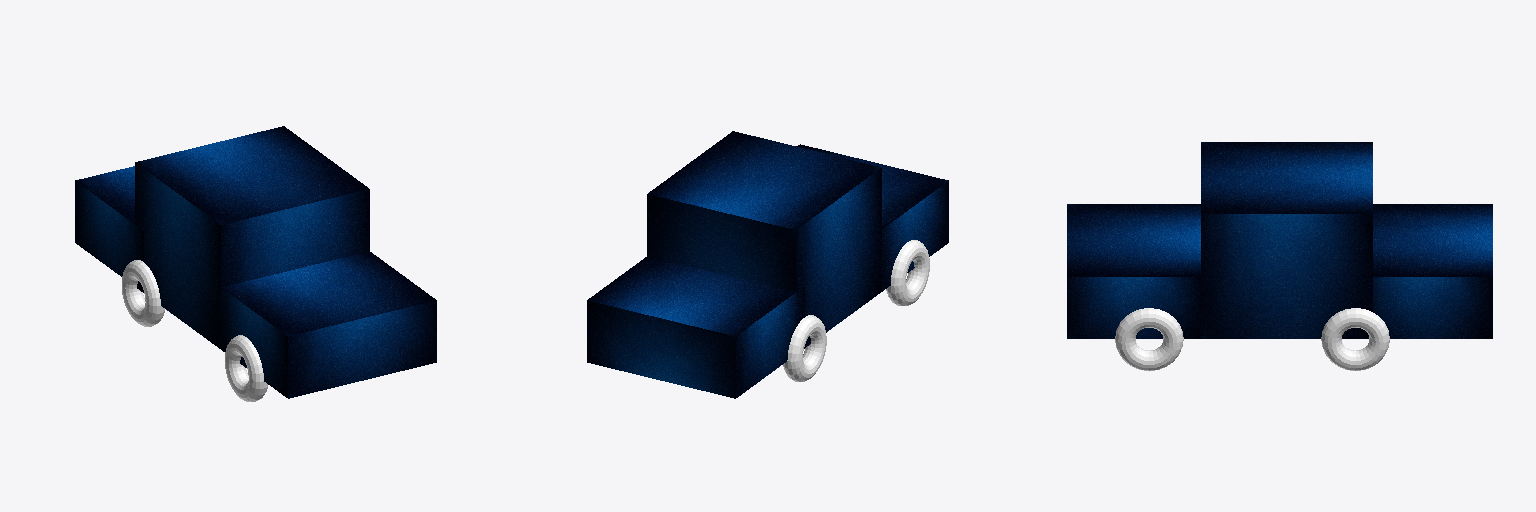
The picture shows the model from 3 angles: view 1: azimuth 30°, elevation 25°; view 2: azimuth 150°, elevation 25°; view 3: azimuth 270°, elevation 25°; orthographic projection.
Parts seen in each view (by area): view 1: Cube, Cube (2), Cube (1), Torus (1), Torus; view 2: Cube, Cube (1), Cube (2), Torus, Torus (1); view 3: Cube, Cube (2), Cube (1), Torus (2), Torus (3).
Boxes of the visible parts, box(x1,y1,x2,y2) form: Cube: box(135, 126, 369, 347); Cube (2): box(219, 251, 436, 398); Cube (1): box(75, 166, 143, 292); Torus (1): box(225, 335, 267, 401); Torus: box(122, 260, 164, 326); Cube: box(647, 131, 881, 347); Cube (1): box(587, 256, 804, 398); Cube (2): box(797, 144, 948, 291); Torus: box(783, 315, 826, 381); Torus (1): box(886, 240, 929, 305); Cube: box(1201, 142, 1372, 338); Cube (2): box(1067, 204, 1203, 338); Cube (1): box(1356, 204, 1492, 338); Torus (2): box(1115, 308, 1183, 370); Torus (3): box(1321, 308, 1389, 370).
Size of the model in its own units: 5.6 by 5 by 12.4.
2 materials, 1 textured.